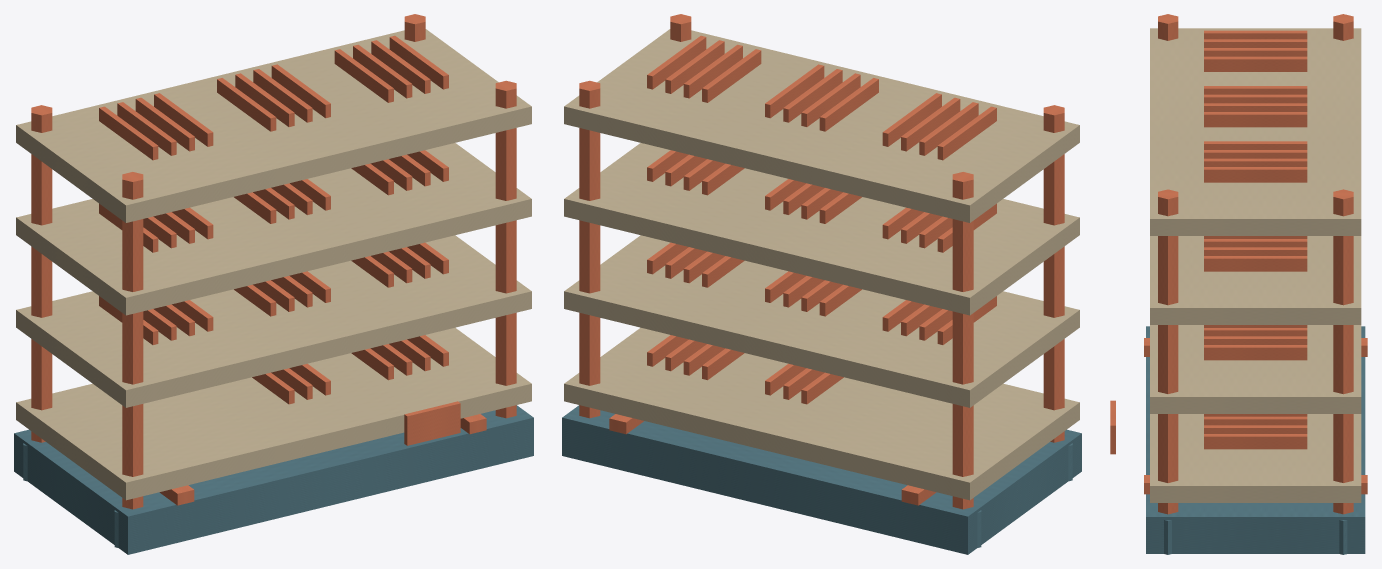
File: atlas100-s047-a01.lod1.glb
3 renders of one model, left to right at view 1: azimuth 30°, elevation 25°; view 2: azimuth 150°, elevation 25°; view 3: azimuth 270°, elevation 25°, orthographic. The views are drawn at different scales.
Visible parts, largest first — view 1: atlas100-s047-a01:part-050, atlas100-s047-a01:part-011, atlas100-s047-a01:part-024, atlas100-s047-a01:part-037, atlas100-s047-a01:part-000, atlas100-s047-a01:part-005, atlas100-s047-a01:part-009, atlas100-s047-a01:part-003, atlas100-s047-a01:part-063, atlas100-s047-a01:part-051, atlas100-s047-a01:part-059, atlas100-s047-a01:part-055 (+17 smaller); view 2: atlas100-s047-a01:part-050, atlas100-s047-a01:part-011, atlas100-s047-a01:part-024, atlas100-s047-a01:part-037, atlas100-s047-a01:part-000, atlas100-s047-a01:part-003, atlas100-s047-a01:part-007, atlas100-s047-a01:part-005, atlas100-s047-a01:part-051, atlas100-s047-a01:part-059, atlas100-s047-a01:part-055, atlas100-s047-a01:part-062 (+16 smaller); view 3: atlas100-s047-a01:part-050, atlas100-s047-a01:part-011, atlas100-s047-a01:part-024, atlas100-s047-a01:part-037, atlas100-s047-a01:part-000, atlas100-s047-a01:part-009, atlas100-s047-a01:part-007, atlas100-s047-a01:part-049, atlas100-s047-a01:part-062, atlas100-s047-a01:part-023, atlas100-s047-a01:part-036, atlas100-s047-a01:part-054 (+19 smaller).
Boxes of the visible parts, x1,y1,x2,y2 form: atlas100-s047-a01:part-050: (16, 29, 531, 222); atlas100-s047-a01:part-011: (16, 327, 531, 500); atlas100-s047-a01:part-024: (16, 235, 531, 407); atlas100-s047-a01:part-037: (16, 143, 531, 315); atlas100-s047-a01:part-000: (14, 405, 533, 554); atlas100-s047-a01:part-005: (122, 172, 143, 509); atlas100-s047-a01:part-009: (495, 80, 516, 418); atlas100-s047-a01:part-003: (31, 105, 52, 442); atlas100-s047-a01:part-063: (404, 401, 460, 445); atlas100-s047-a01:part-051: (99, 106, 158, 160); atlas100-s047-a01:part-059: (334, 49, 393, 102); atlas100-s047-a01:part-055: (217, 78, 276, 131); atlas100-s047-a01:part-050: (564, 29, 1079, 222); atlas100-s047-a01:part-011: (564, 327, 1079, 500); atlas100-s047-a01:part-024: (564, 235, 1079, 407); atlas100-s047-a01:part-037: (564, 143, 1079, 315); atlas100-s047-a01:part-000: (562, 405, 1081, 554); atlas100-s047-a01:part-003: (952, 172, 973, 509); atlas100-s047-a01:part-007: (579, 80, 600, 418); atlas100-s047-a01:part-005: (1043, 105, 1064, 442); atlas100-s047-a01:part-051: (937, 106, 996, 160); atlas100-s047-a01:part-059: (702, 49, 761, 102); atlas100-s047-a01:part-055: (819, 78, 878, 131); atlas100-s047-a01:part-062: (647, 35, 706, 89); atlas100-s047-a01:part-050: (1150, 28, 1361, 235); atlas100-s047-a01:part-011: (1150, 414, 1361, 502); atlas100-s047-a01:part-024: (1150, 325, 1361, 413); atlas100-s047-a01:part-037: (1150, 236, 1361, 324); atlas100-s047-a01:part-000: (1146, 326, 1365, 553); atlas100-s047-a01:part-009: (1158, 189, 1178, 514); atlas100-s047-a01:part-007: (1333, 189, 1353, 514); atlas100-s047-a01:part-049: (1204, 256, 1307, 271); atlas100-s047-a01:part-062: (1204, 167, 1307, 182); atlas100-s047-a01:part-023: (1204, 434, 1307, 449); atlas100-s047-a01:part-036: (1204, 345, 1307, 360); atlas100-s047-a01:part-054: (1204, 56, 1307, 71).
Size of the model in its own units: 2.91 by 2.53 by 1.64.
Materials: 3 (3 with a texture image).
